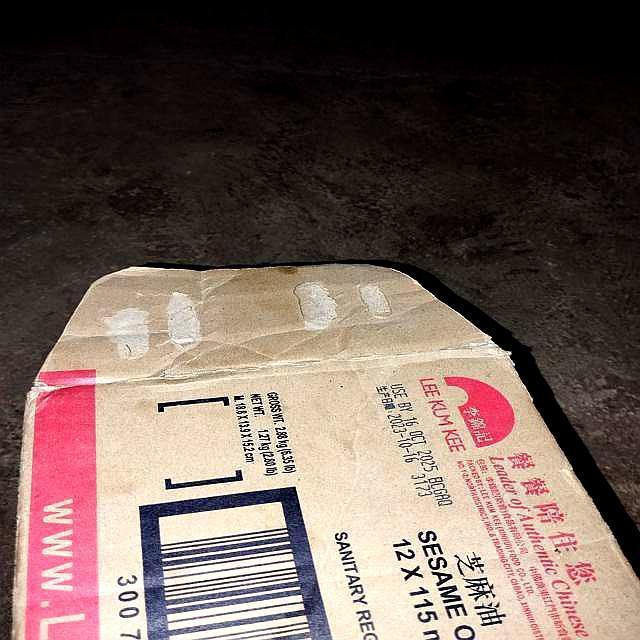Biodegradable: (3, 259, 640, 640)
